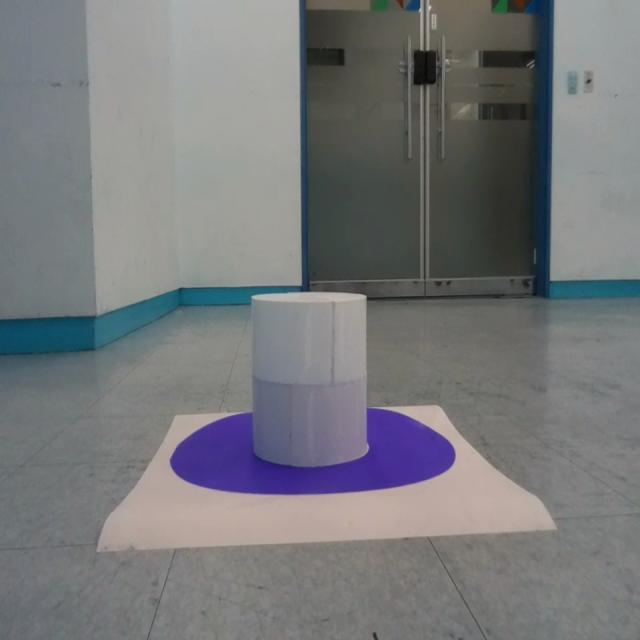cylinder: (250, 291, 369, 468)
